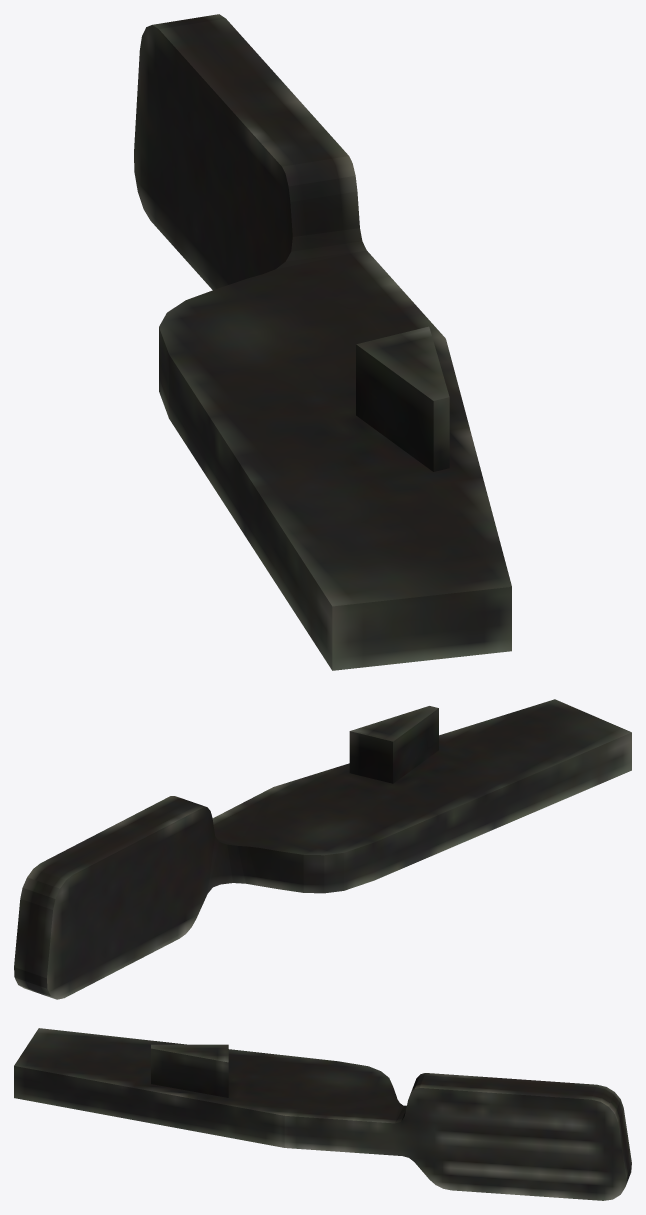
The picture shows the model from 3 angles, top to bottom: view 1: azimuth 30°, elevation 25°; view 2: azimuth 150°, elevation 25°; view 3: azimuth 270°, elevation 25°; orthographic projection. The views are drawn at different scales.
Parts seen in each view (by area): view 1: TW_5e81ebcd8e146c7080625e15_PZ_Import; view 2: TW_5e81ebcd8e146c7080625e15_PZ_Import; view 3: TW_5e81ebcd8e146c7080625e15_PZ_Import.
Part boxes in pixels (bbox=[...]): TW_5e81ebcd8e146c7080625e15_PZ_Import: bbox=[134, 14, 511, 670]; TW_5e81ebcd8e146c7080625e15_PZ_Import: bbox=[14, 699, 631, 999]; TW_5e81ebcd8e146c7080625e15_PZ_Import: bbox=[14, 1028, 631, 1200].
Bounding box in the file's own units: 0.0134 × 0.0314 × 0.00564.
1 material, 1 textured.
